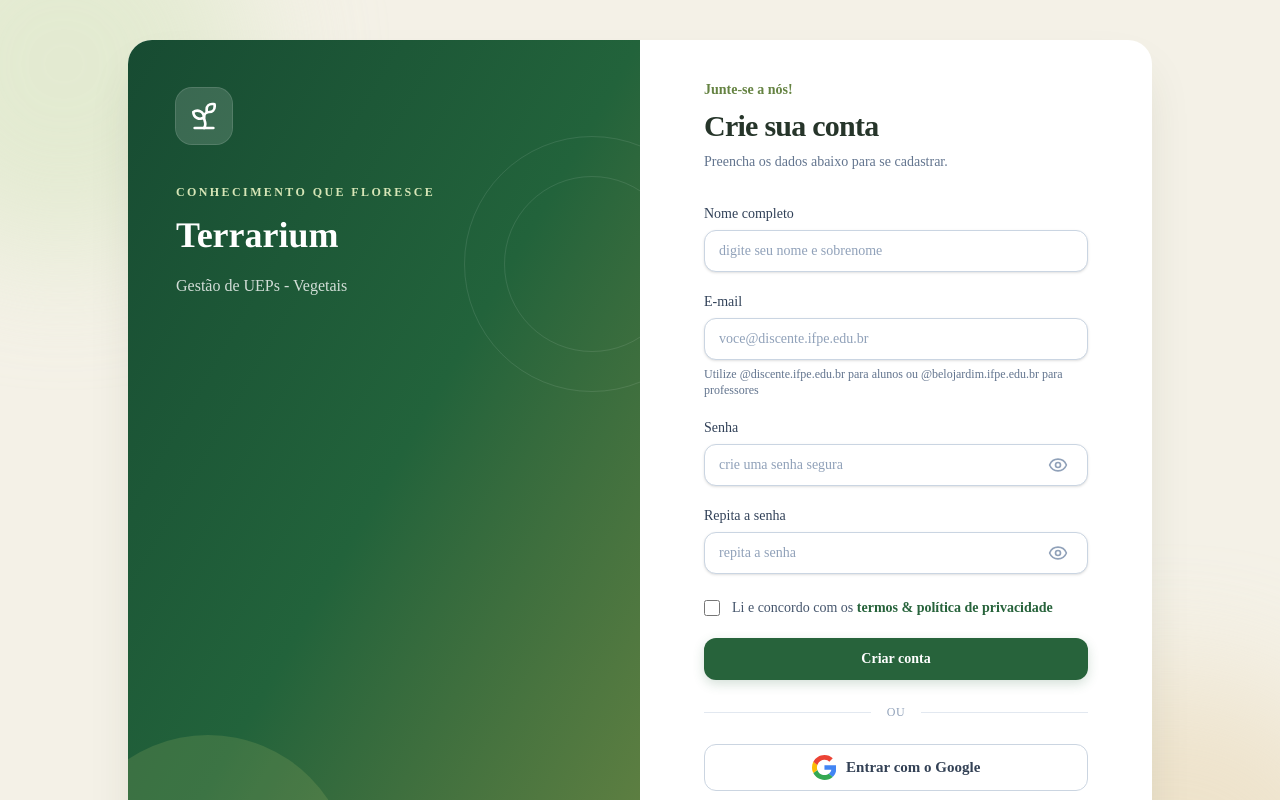
RegisterPage › deve exibir mensagem de erro se tentar enviar formulário vazio
Click the button "Criar conta" at (896, 659), box [704,638,1088,680]
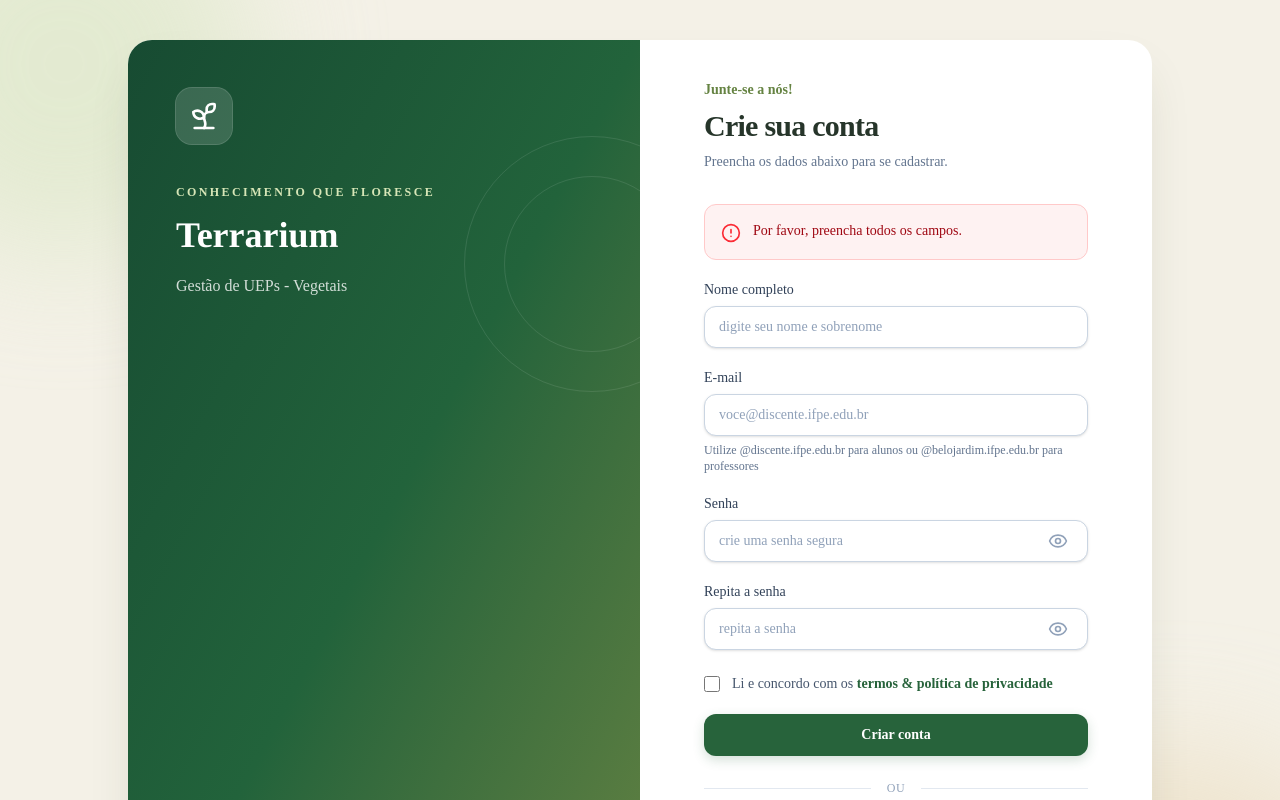
Now the text "Por favor, preencha todos os campos." is shown, box [753,221,962,241]
